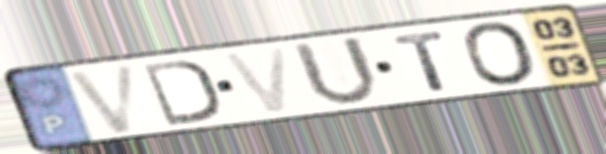D: (138, 57, 222, 128)
O: (458, 19, 543, 88)
T: (389, 28, 452, 94)
U: (288, 35, 383, 109)
V: (63, 60, 141, 137), (218, 44, 292, 116)
